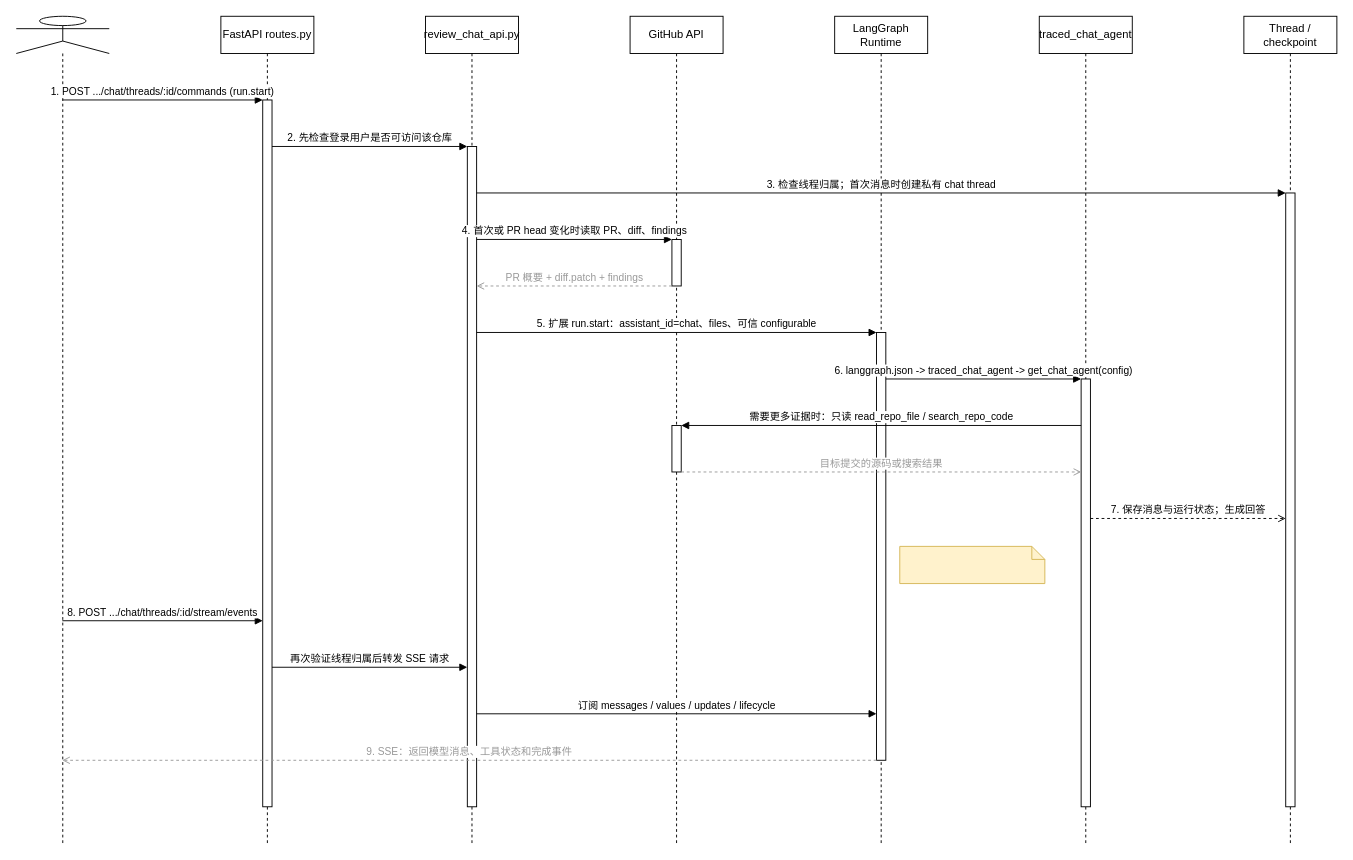
Some shapes in this 1353 by 860 pixel diagram are drawn without their labels. The box of each missing label's shape, as (x1, y1, x2, y2) in pixels:
从这里开始是观察面：不是再次启动模型: (899, 545, 1045, 584)
用户 / ReviewChat: (15, 15, 109, 844)
